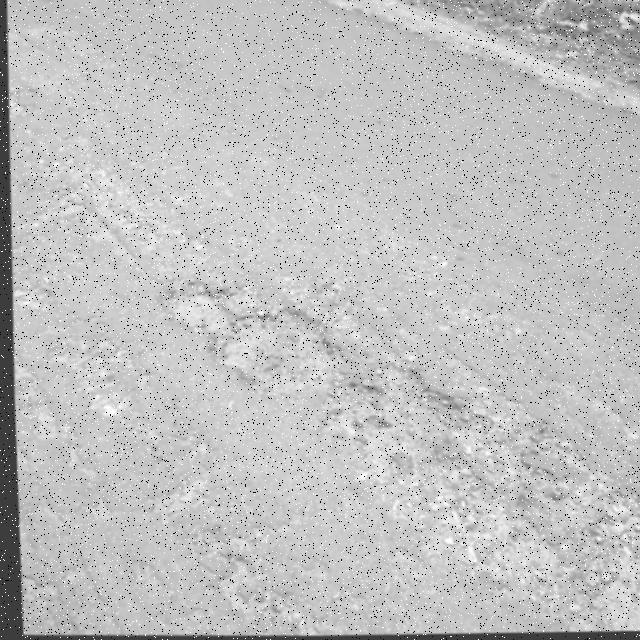pothole: (148, 261, 491, 503)
